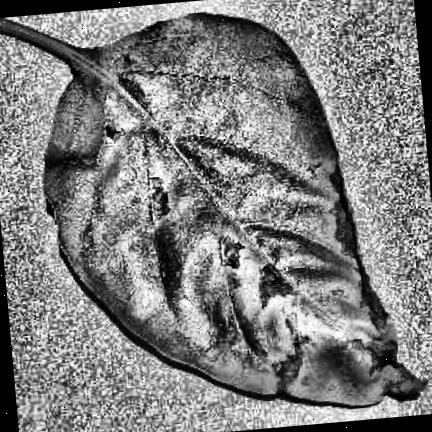leaf: (0, 12, 426, 407)
